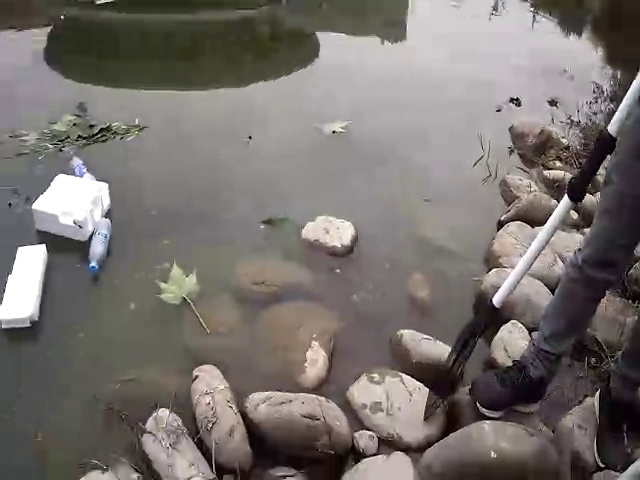bottle: (85, 217, 112, 279), (59, 152, 104, 180)
leaf: (10, 104, 143, 151), (148, 257, 203, 304), (309, 114, 353, 138)
paomo: (26, 172, 109, 237), (5, 239, 47, 332)
